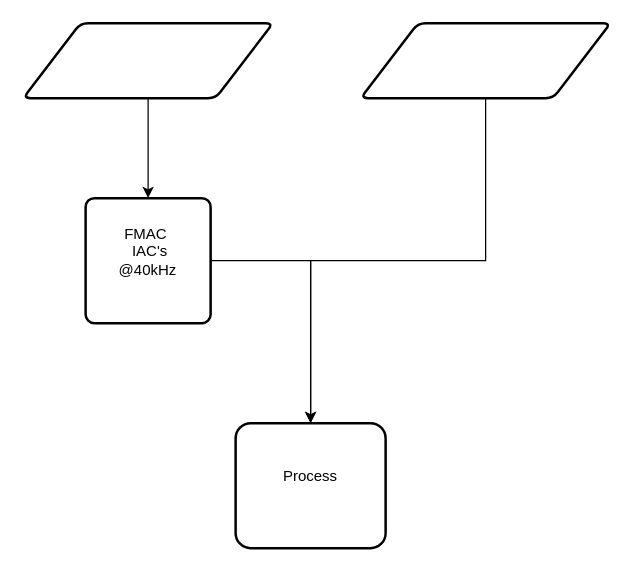
This 633x570 diagram has some shape labels left out. Here are the shapes that lost their labels. From the top down, the box of each, then its label:
(21, 21, 274, 99): ADC's IAC's IDC VDC 6 samp 25us
(359, 21, 611, 99): TIMER VAC's 42kHz
